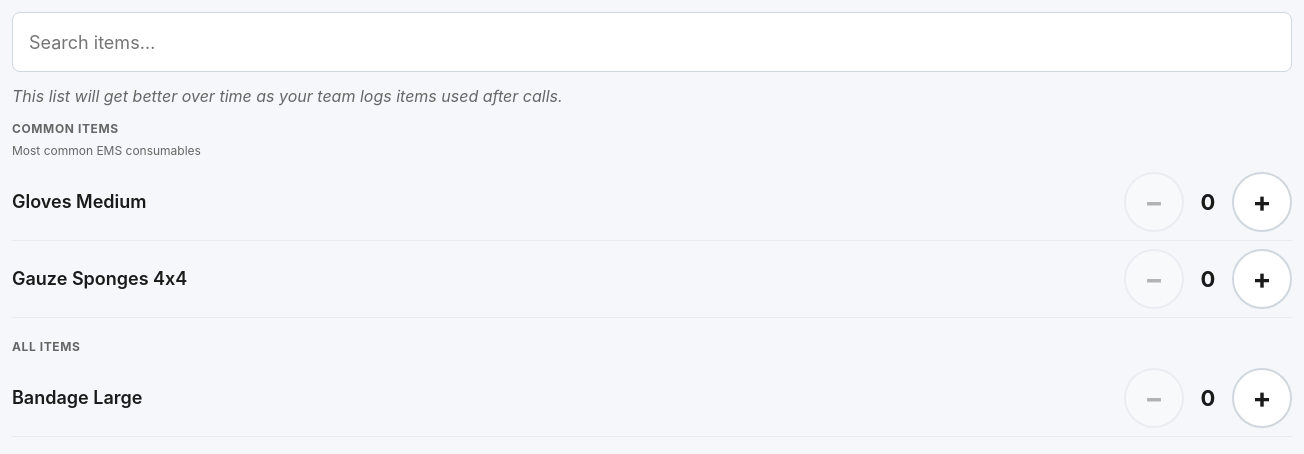
it: UsageItemPicker — search › filters items by item_name when searching
Type "gloves" into the search field labelled "Search items…" at (652, 42), box [12,12,1292,72]
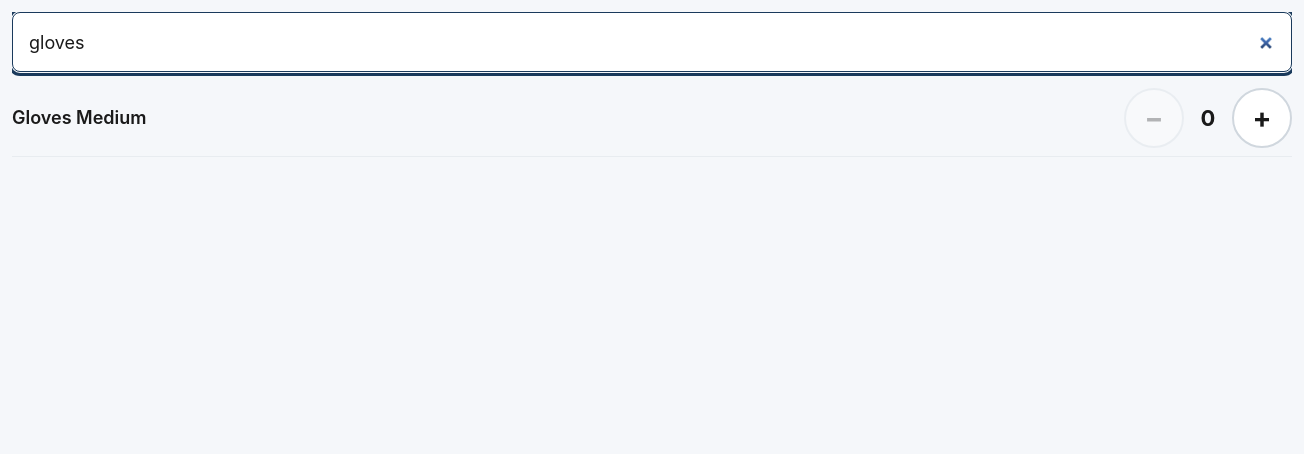
Expected: the text "Gloves Medium" is shown, [12,107,146,128]
Now the text "Gauze Sponges 4x4" is gone
Now the text "Bandage Large" is gone
